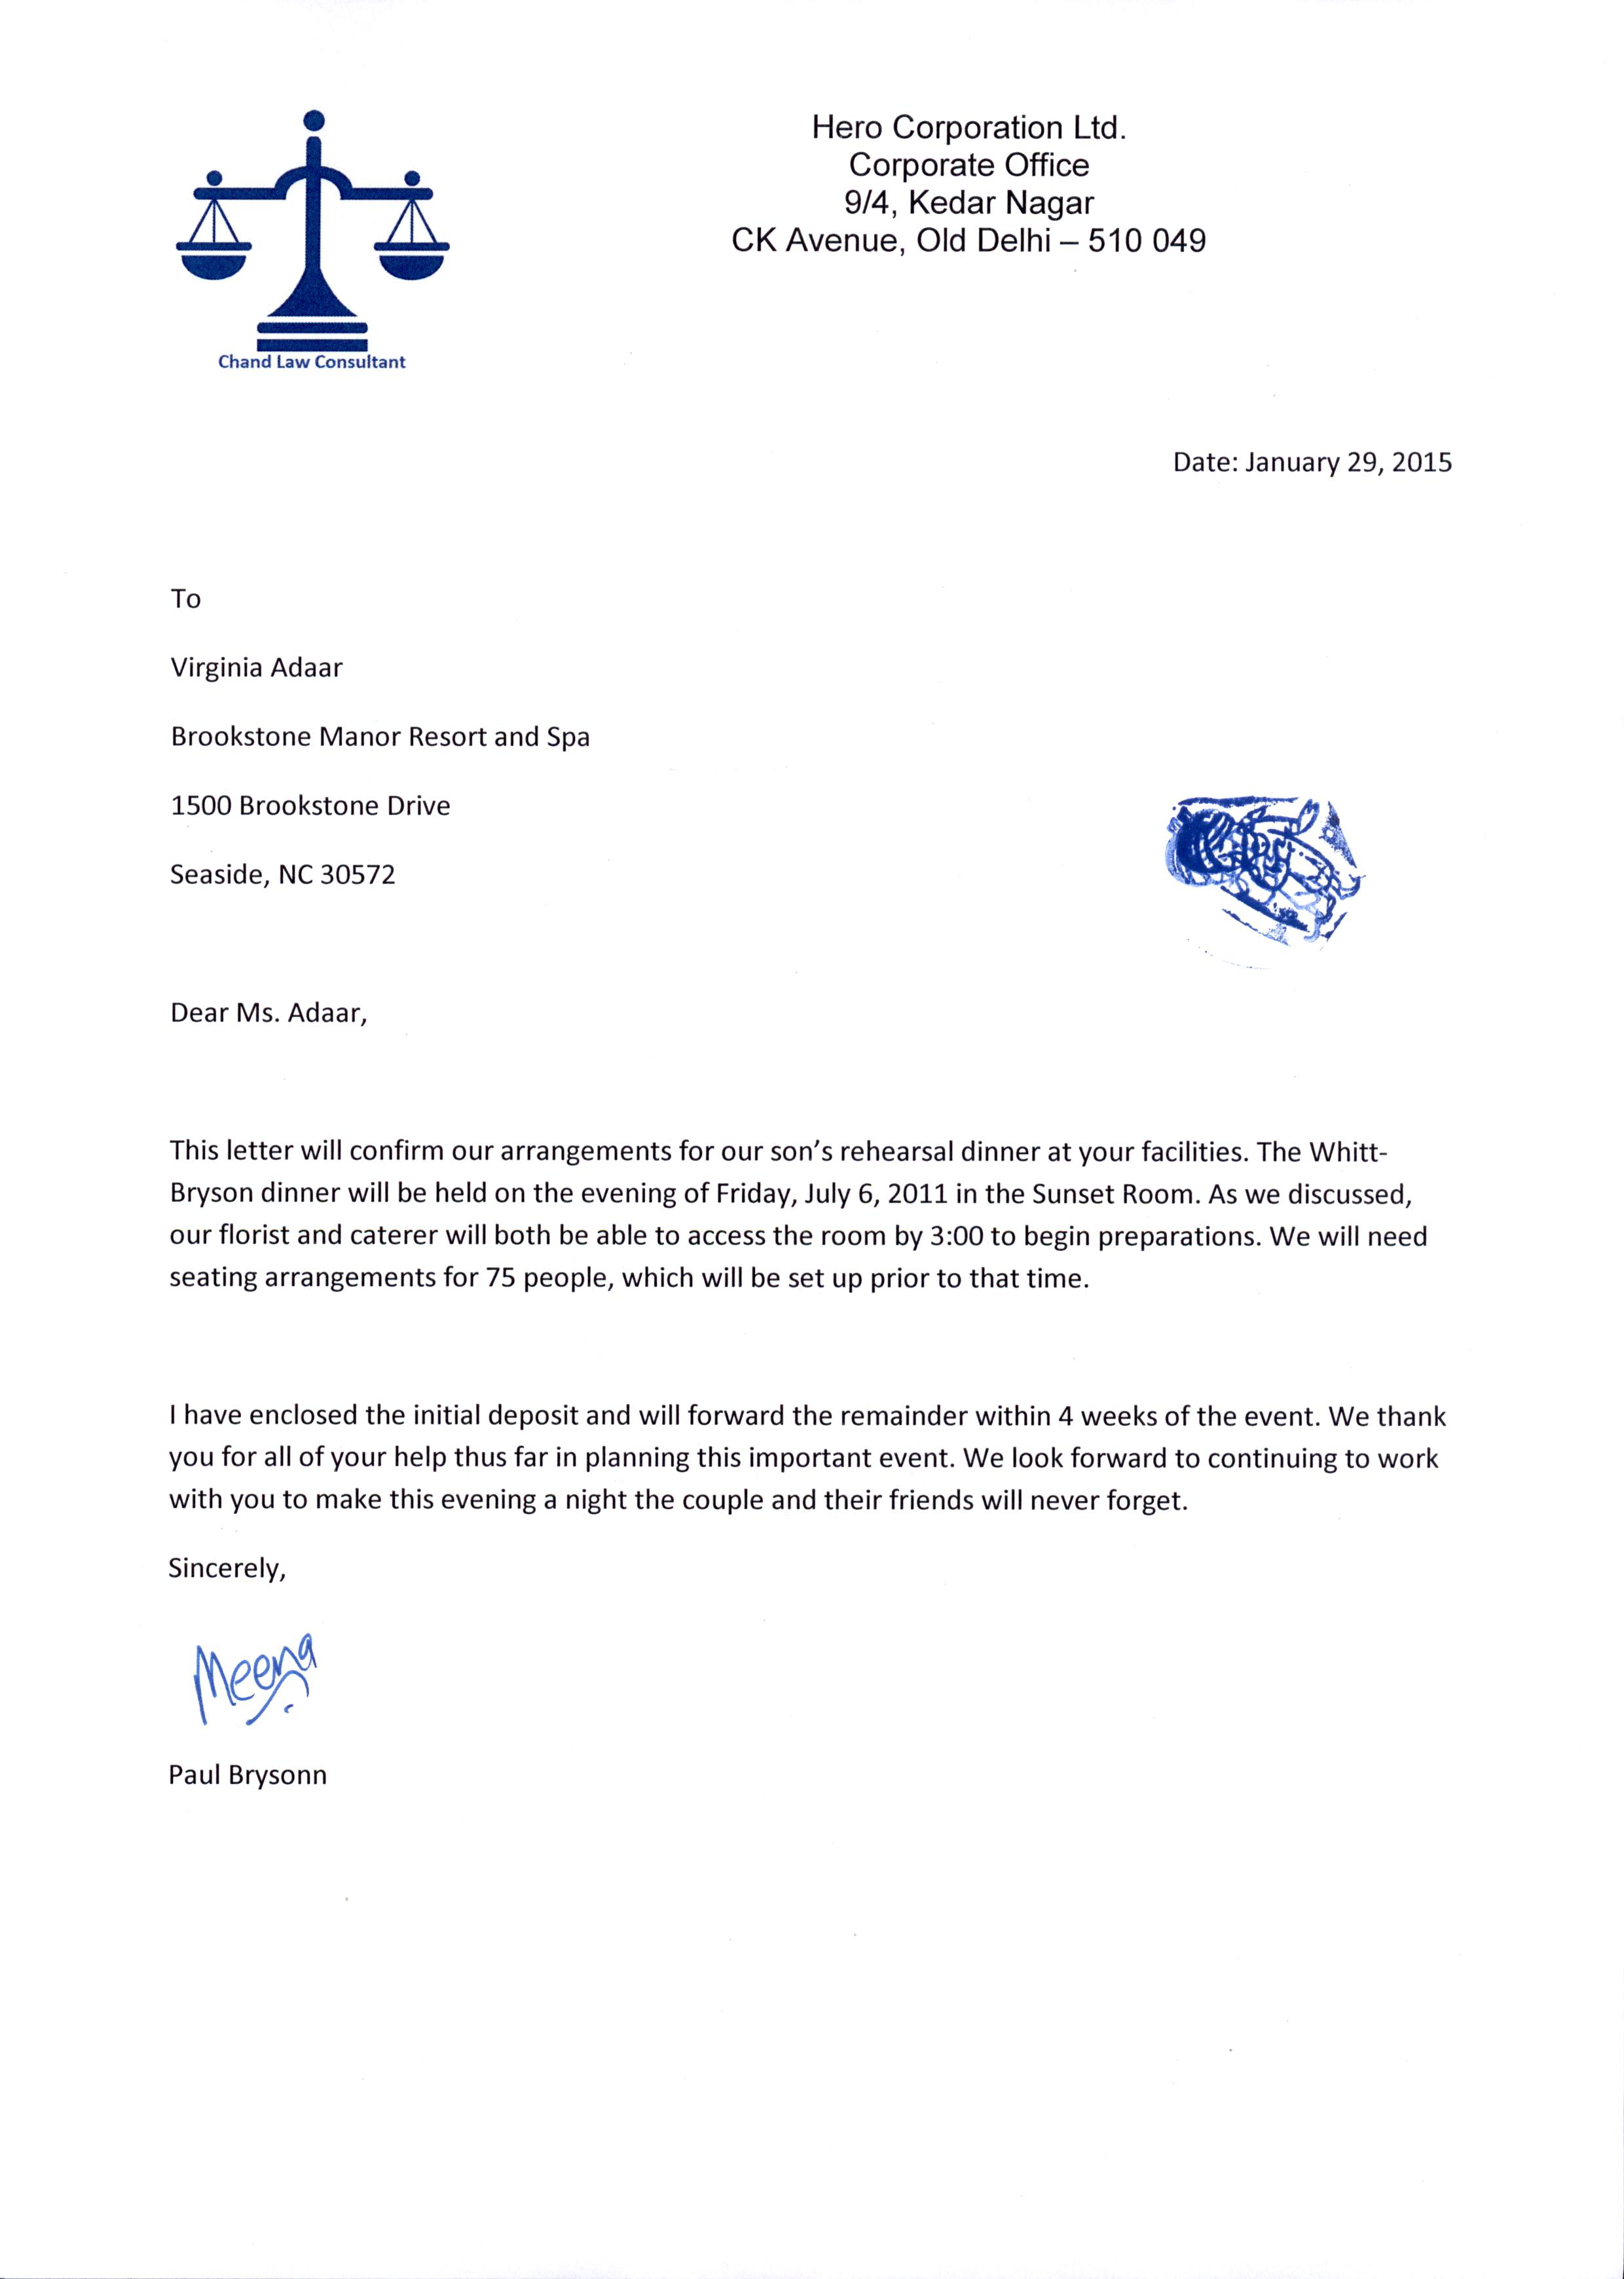Signature: (183, 1618, 341, 1733)
